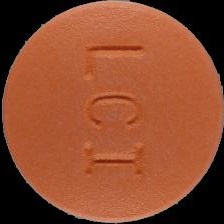68084-950: (0, 0, 224, 224)
